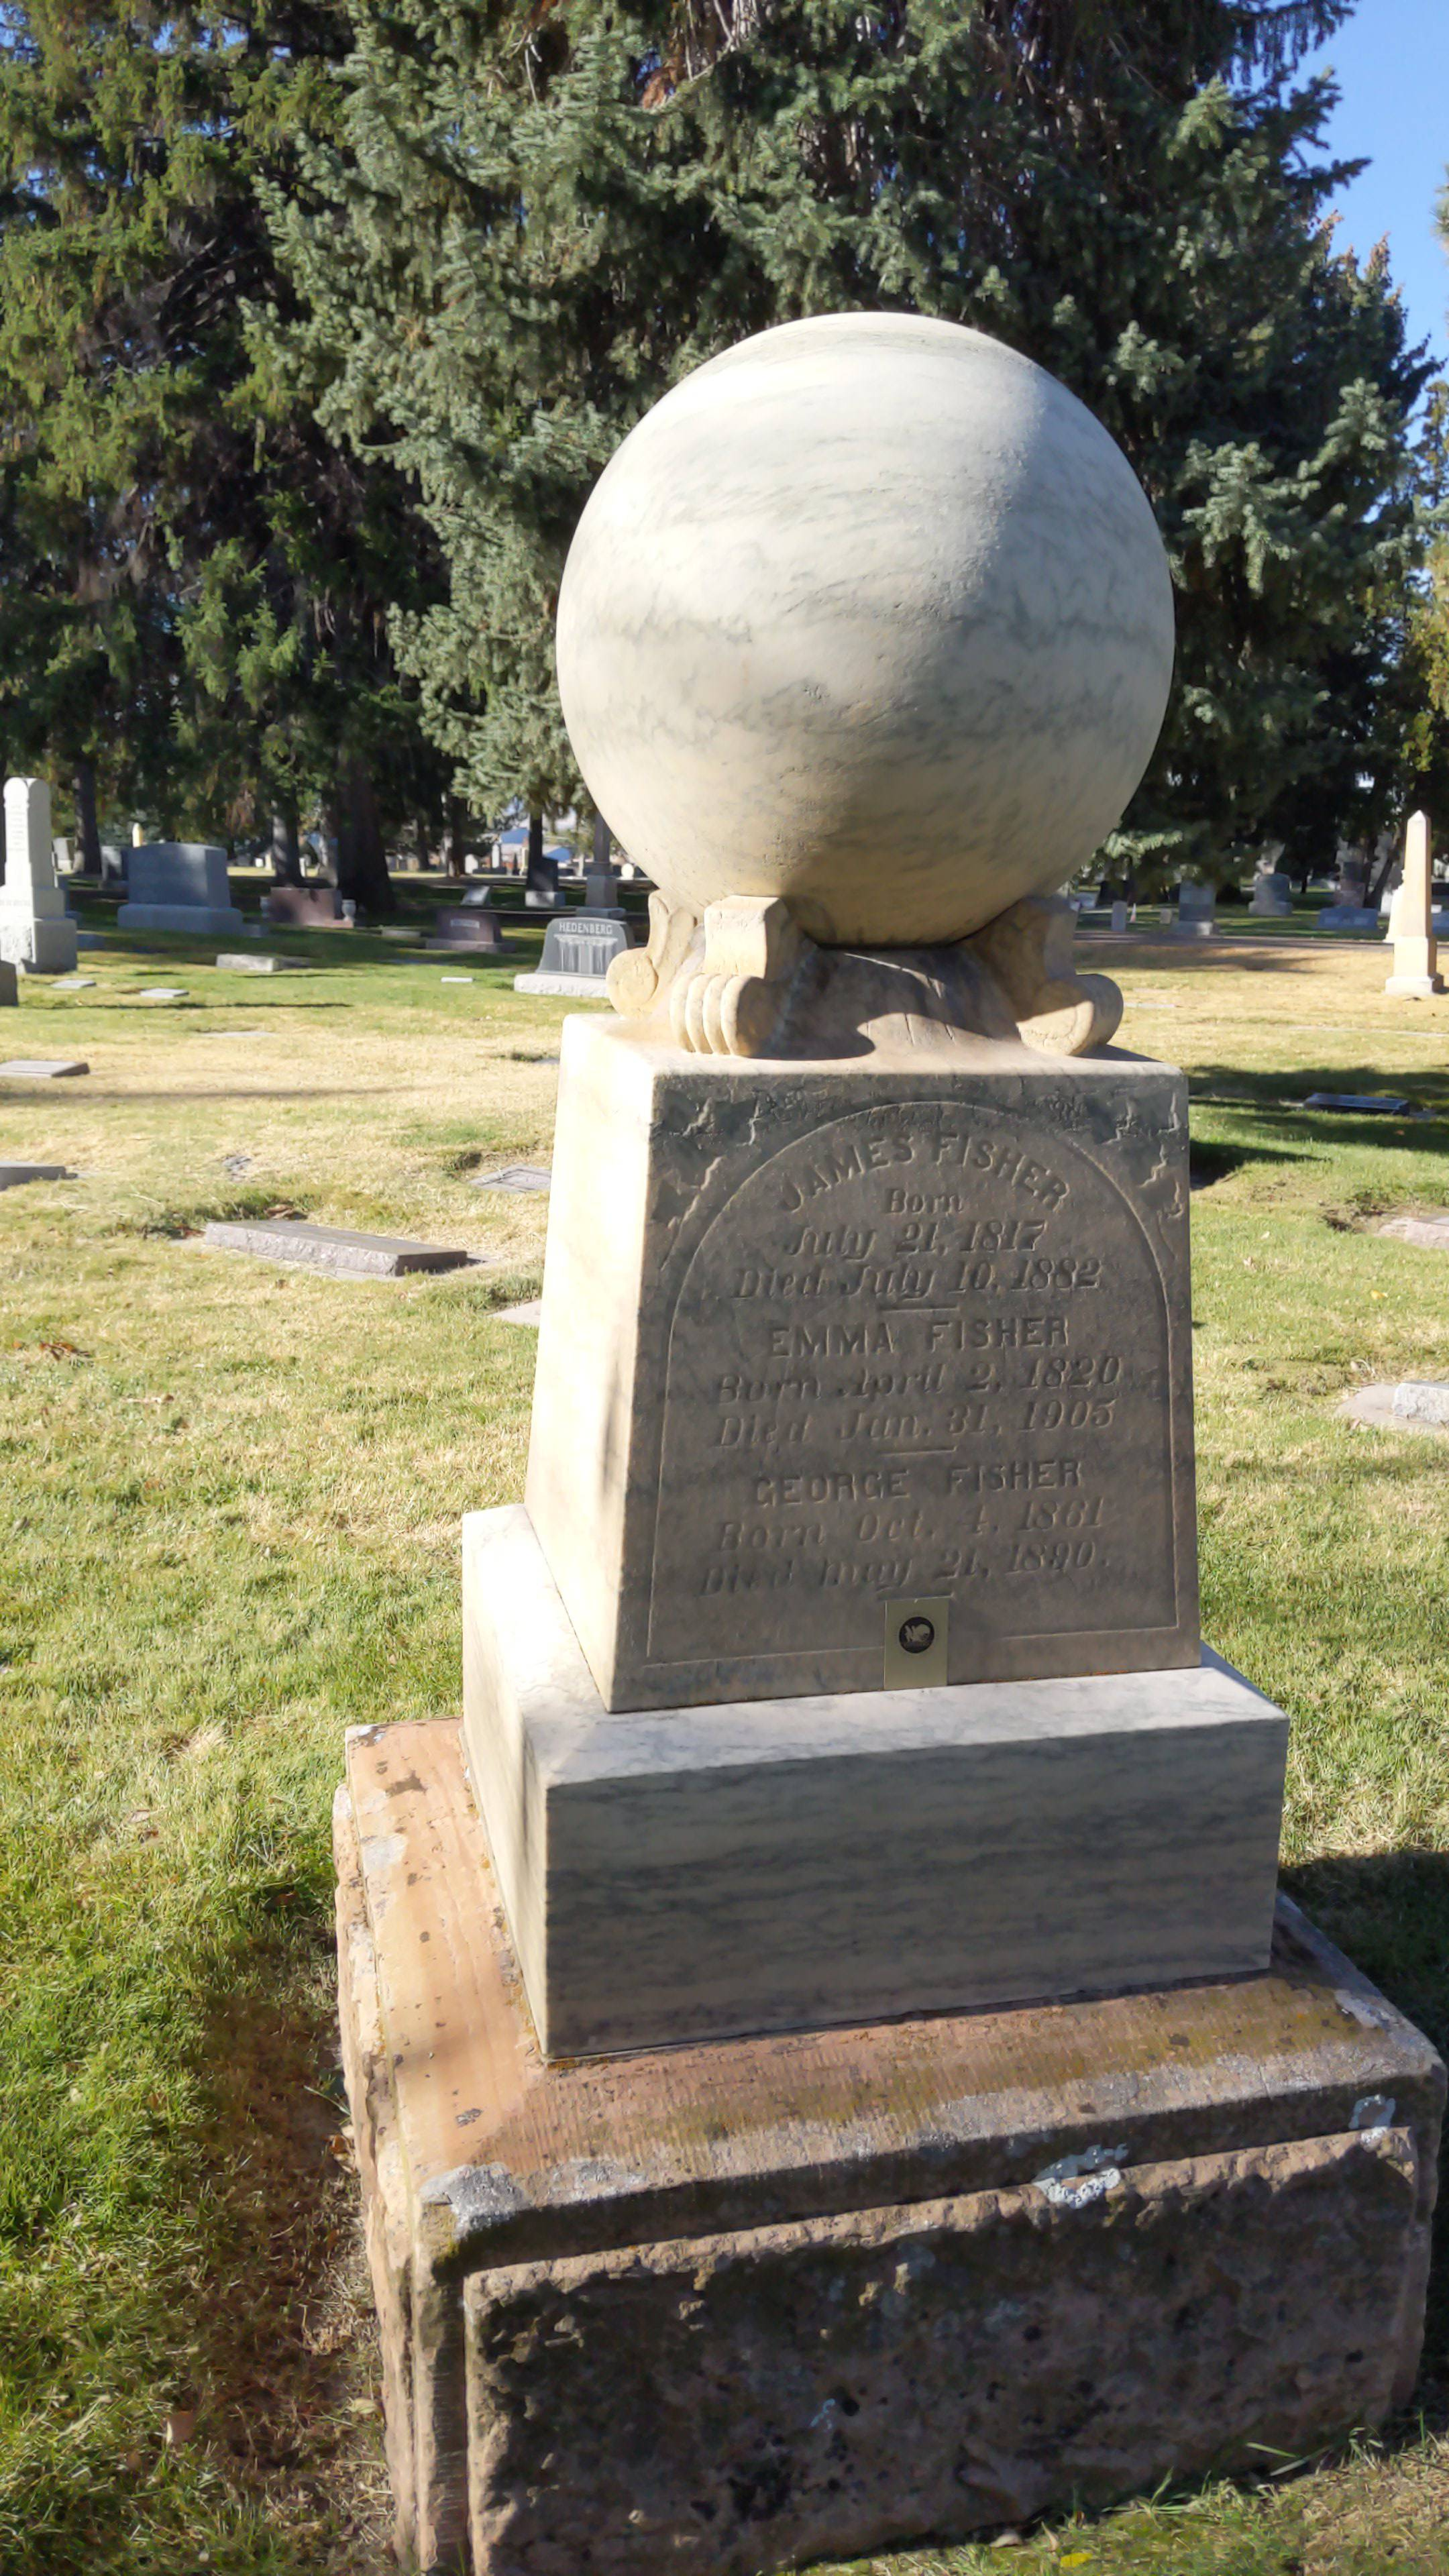obelisk: (478, 317, 1290, 2075)
